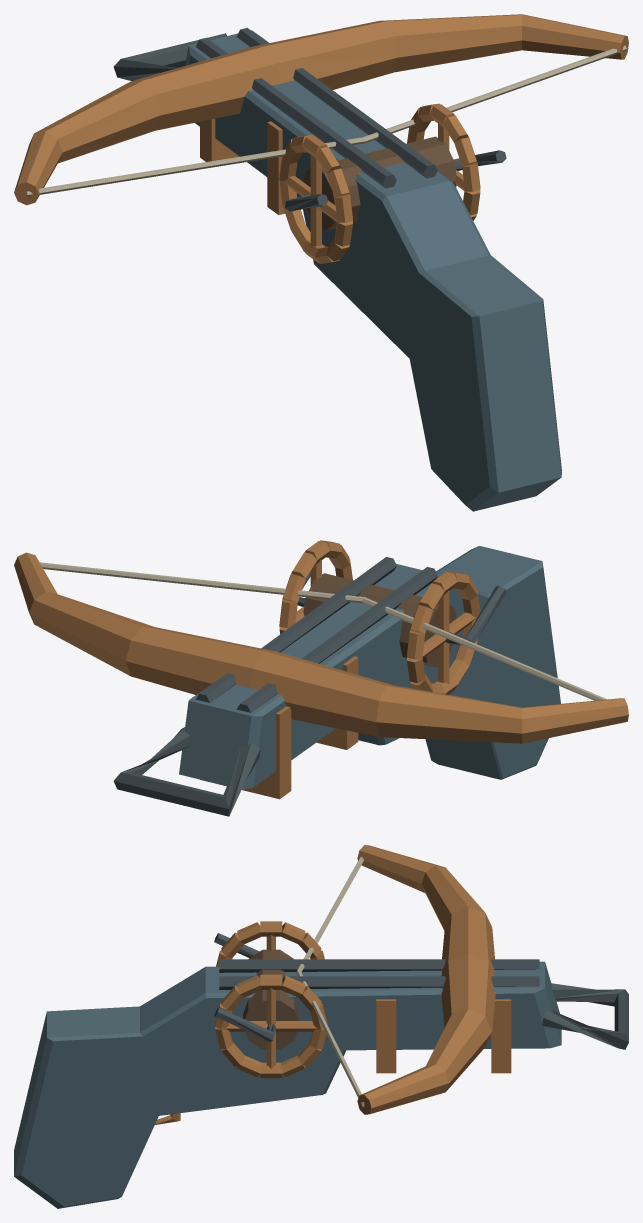
File: SWW_RopewindArbalest.fbx
The picture shows the model from 3 angles, top to bottom: view 1: azimuth 30°, elevation 25°; view 2: azimuth 150°, elevation 25°; view 3: azimuth 270°, elevation 25°; orthographic projection. The views are drawn at different scales.
Parts seen in each view (by area): view 1: SWW_RopewindArbalest; view 2: SWW_RopewindArbalest; view 3: SWW_RopewindArbalest.
Boxes of the visible parts, <box> form: SWW_RopewindArbalest: <box>14,14,628,511</box>; SWW_RopewindArbalest: <box>14,540,628,816</box>; SWW_RopewindArbalest: <box>14,845,628,1208</box>.
Bounding box in the file's own units: 1.11 × 0.4958 × 1.12.
